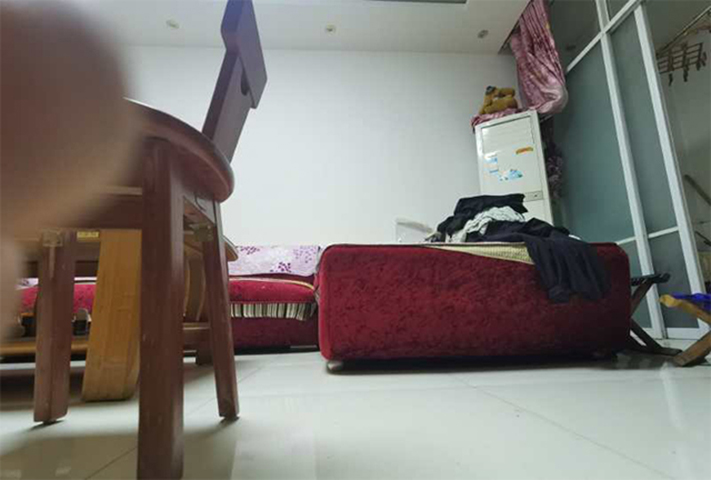sofa: (297, 244, 626, 375), (234, 244, 321, 357)
stool: (31, 1, 268, 479)
table: (1, 171, 241, 404)
